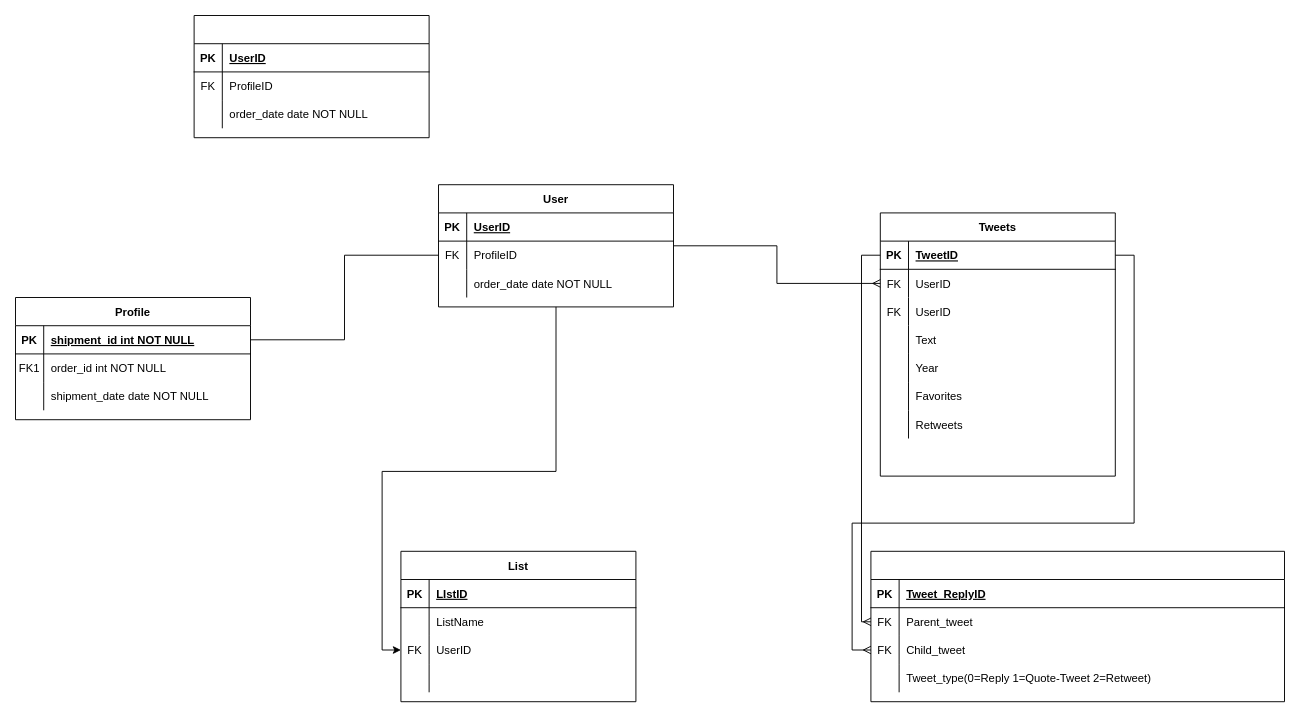
Some shapes in this 1300 by 717 pixel diagram are drawn without their labels. Here are the shapes that lost their labels. From the top down, the box of each, then its label:
(193, 15, 429, 138): Follower-Followee-Relationship
(870, 550, 1285, 702): Tweets-Reply-relationship
